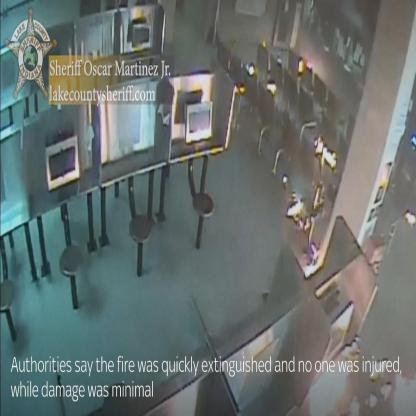fire: (307, 362, 358, 416), (393, 370, 416, 416), (314, 135, 336, 168), (286, 194, 304, 216)
